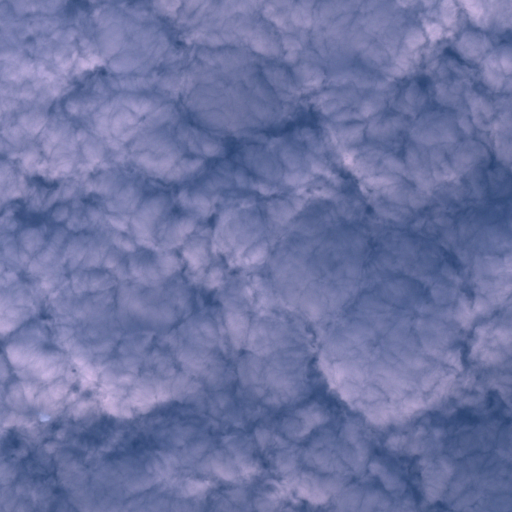Iceberg: (38, 414, 50, 421)
